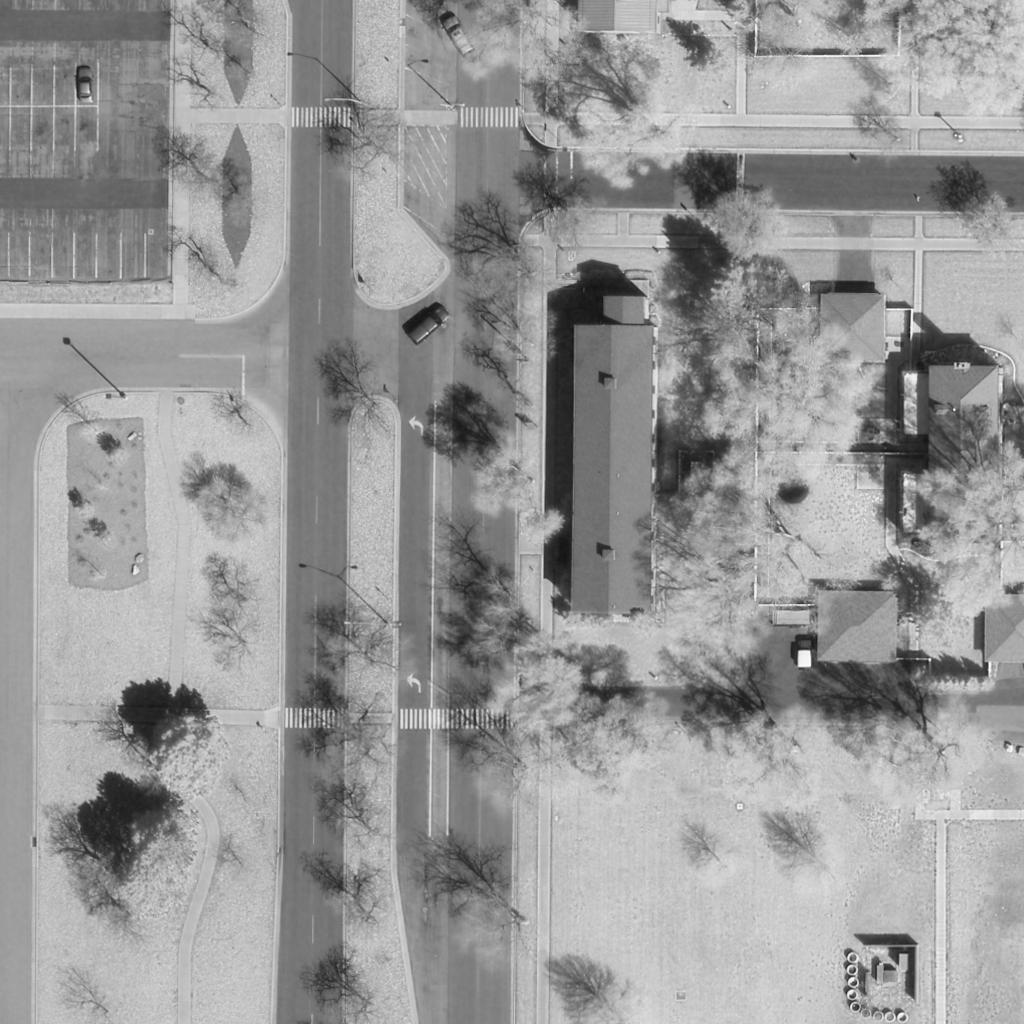vehicle: (439, 15, 481, 59), (406, 306, 452, 346), (77, 63, 95, 105), (797, 640, 815, 670)
